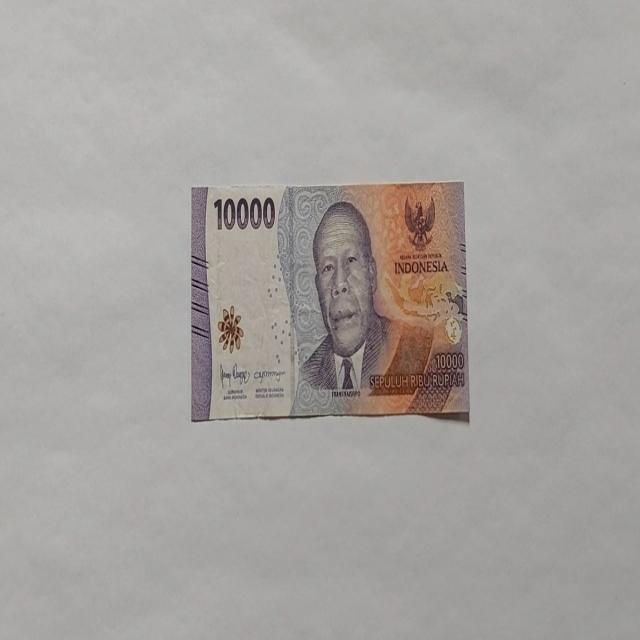sepuluh ribu rupiah: (190, 180, 470, 422)
